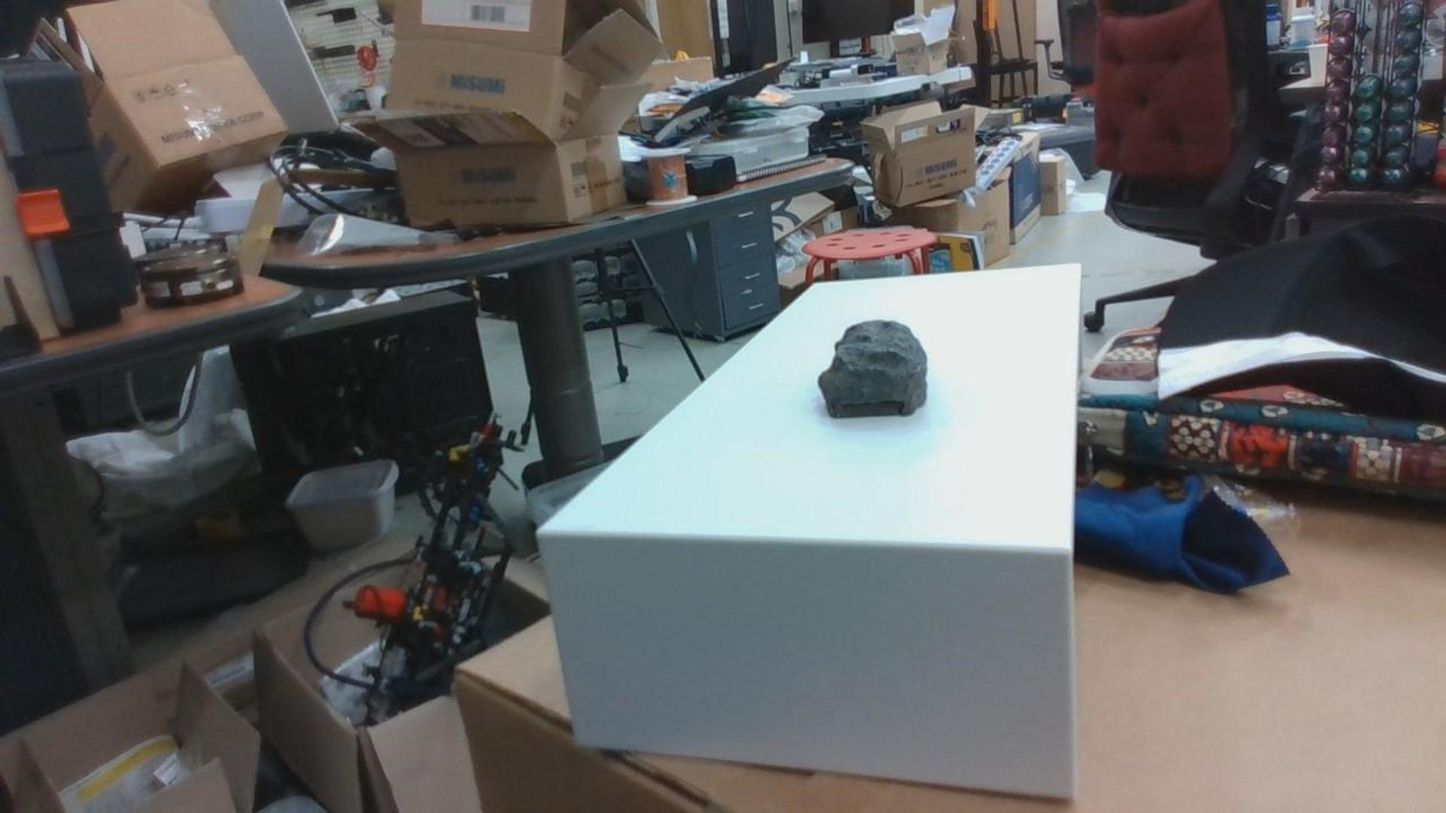rock: (818, 320, 926, 417)
